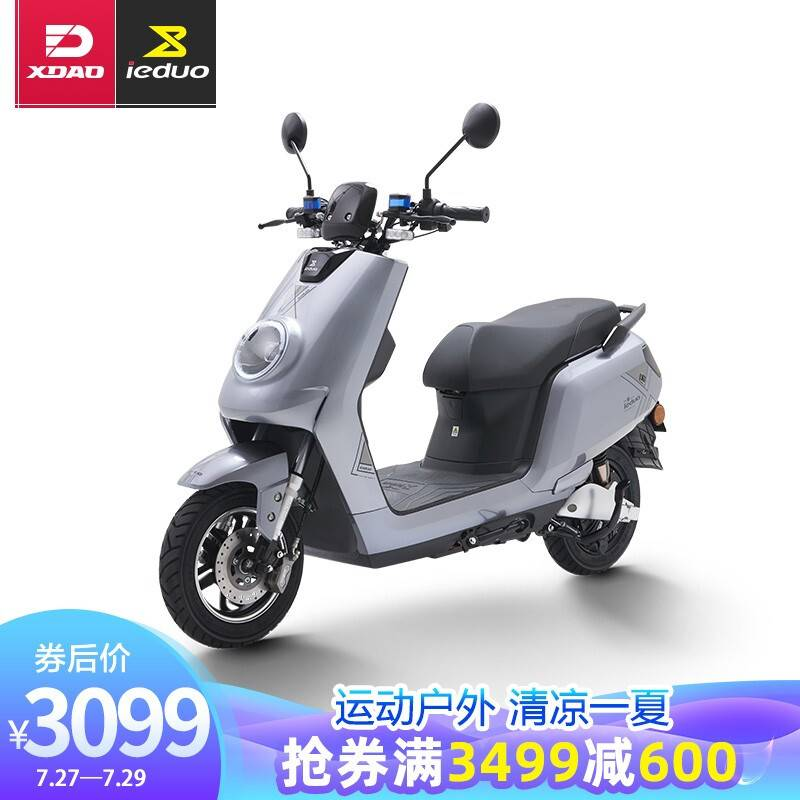电动车: (119, 107, 691, 661)
